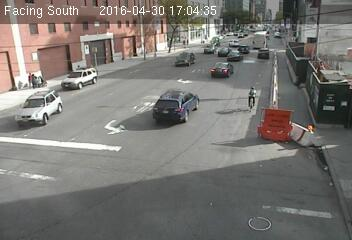neg: (238, 82, 264, 117), (149, 103, 161, 120)
pos: (25, 64, 45, 90)
